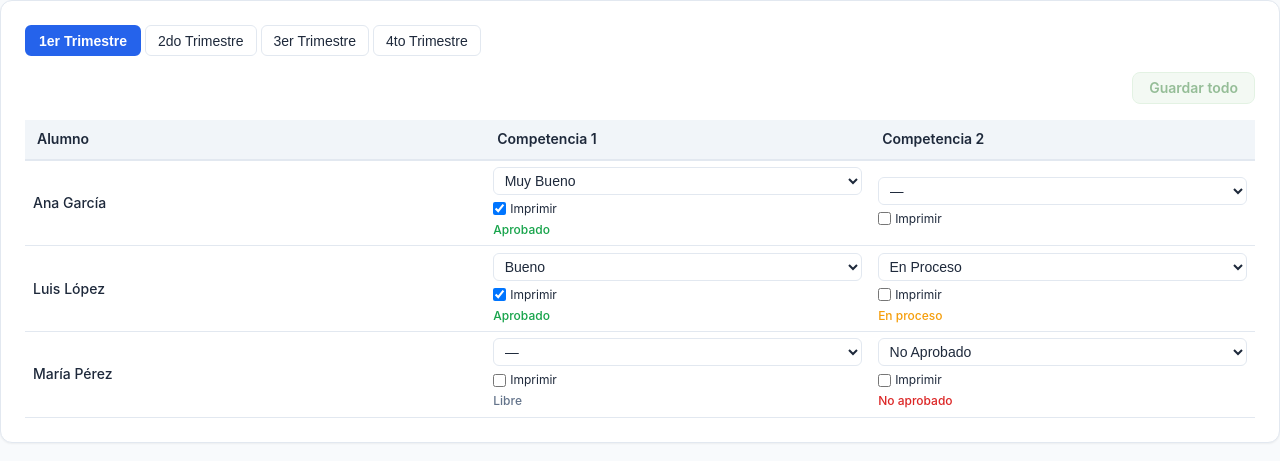
Scenario: CGG-6: PATCH failure shows cell-level error indicator › shows error indicator after PATCH failure
The width and height of the screenshot is (1280, 461).
expect the button "1er Trimestre" is shown: met, box [25,25,141,56]
Select "Muy Bueno" in the dropdown named "Calificación para s-1 en c-2": (1063, 191) [878,177,1247,205]
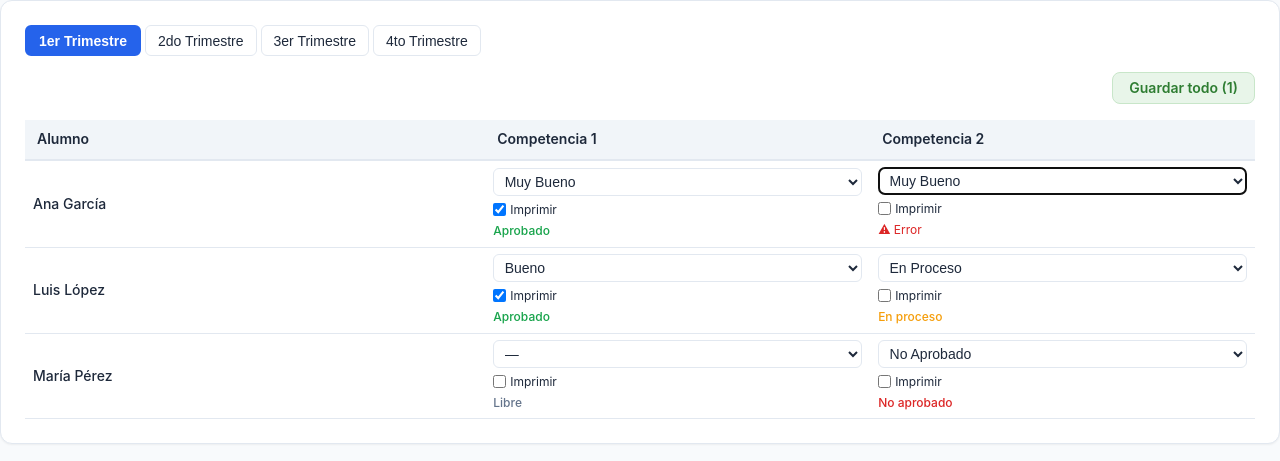
expect the text "⚠ Error" is shown: met, box [878,222,922,237]
